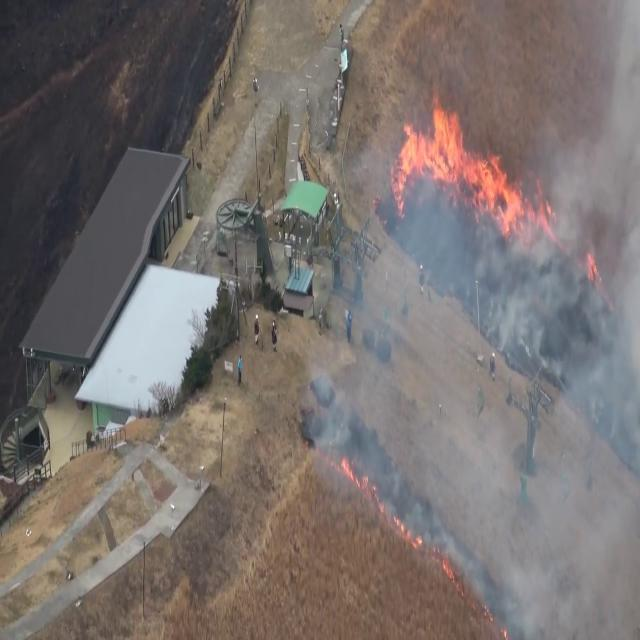Fire: (392, 93, 524, 234)
Smoke: (319, 7, 639, 640)
